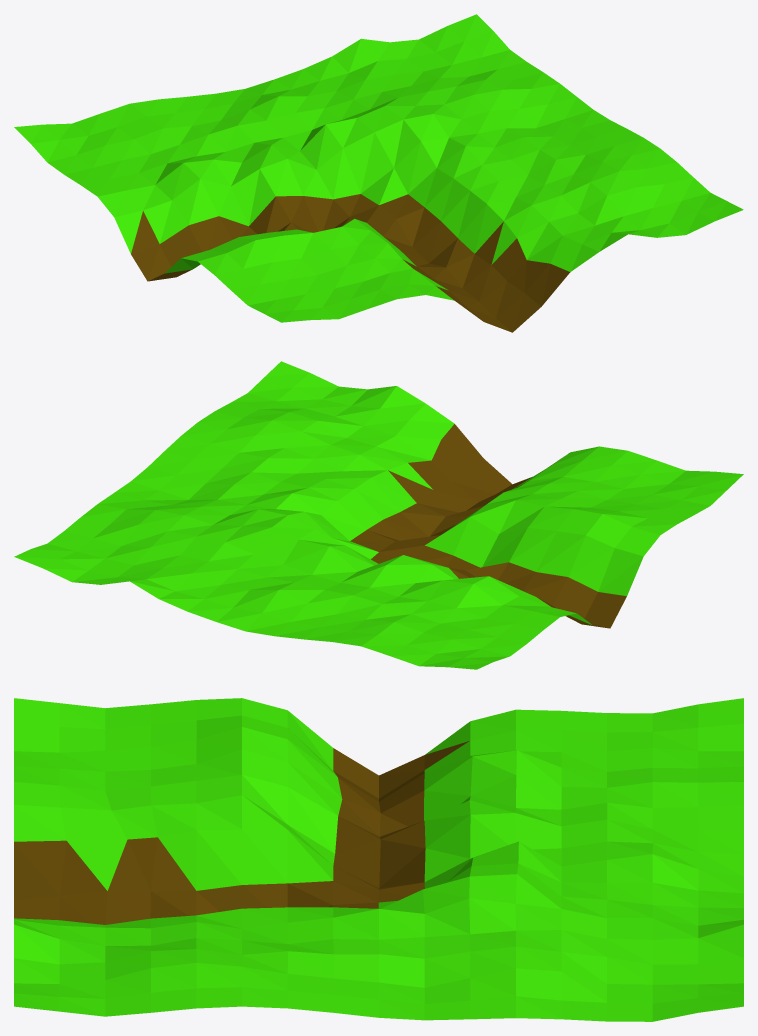
The model's file is oja_right_top_corner.fbx.
3 renders of one model, top to bottom at view 1: azimuth 30°, elevation 25°; view 2: azimuth 150°, elevation 25°; view 3: azimuth 270°, elevation 25°, orthographic. The views are drawn at different scales.
Visible parts, largest first — view 1: oja_Right_Top_Corner; view 2: oja_Right_Top_Corner; view 3: oja_Right_Top_Corner.
Part boxes in pixels (x1,y1,x2,y2): oja_Right_Top_Corner: (14, 14, 743, 332); oja_Right_Top_Corner: (14, 361, 743, 669); oja_Right_Top_Corner: (14, 698, 743, 1021).
Size of the model in its own units: 2000 by 323 by 2000.
